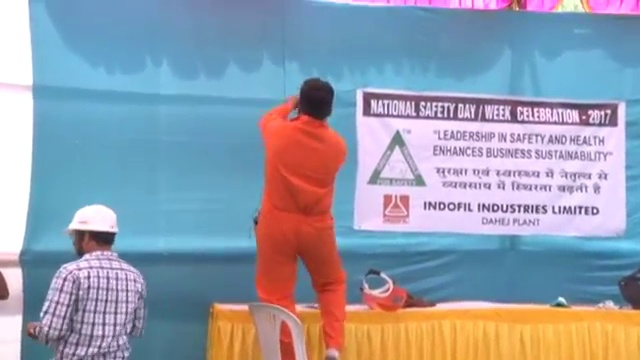helmet: (66, 203, 120, 234)
helmet_off: (297, 75, 336, 121)
helmet_on: (65, 203, 120, 259)
person: (257, 74, 349, 360), (27, 202, 150, 360)
